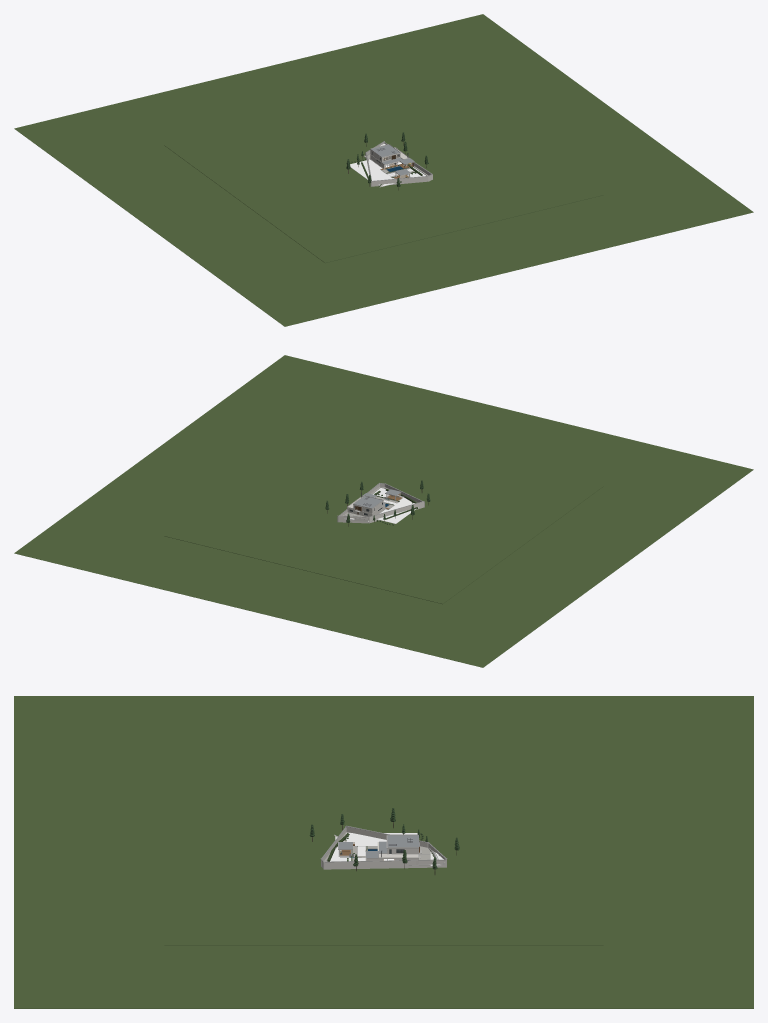
File: modern-villa__8FwEpkn.glb
3 renders of one model, top to bottom at view 1: azimuth 30°, elevation 25°; view 2: azimuth 150°, elevation 25°; view 3: azimuth 270°, elevation 25°, orthographic. The views are drawn at different scales.
Parts seen in each view (by area): view 1: context_ground2, context_ground; view 2: context_ground2, context_ground; view 3: context_ground2, context_ground, site_wall_2.
Part boxes in pixels (x1,y1,x2,y2): context_ground2: [14, 14, 753, 326]; context_ground: [164, 77, 603, 263]; context_ground2: [14, 355, 753, 667]; context_ground: [164, 418, 603, 604]; context_ground2: [14, 696, 753, 1008]; context_ground: [164, 759, 603, 945]; site_wall_2: [325, 860, 445, 869].
Size of the model in its own units: 320 by 10.93 by 320.
